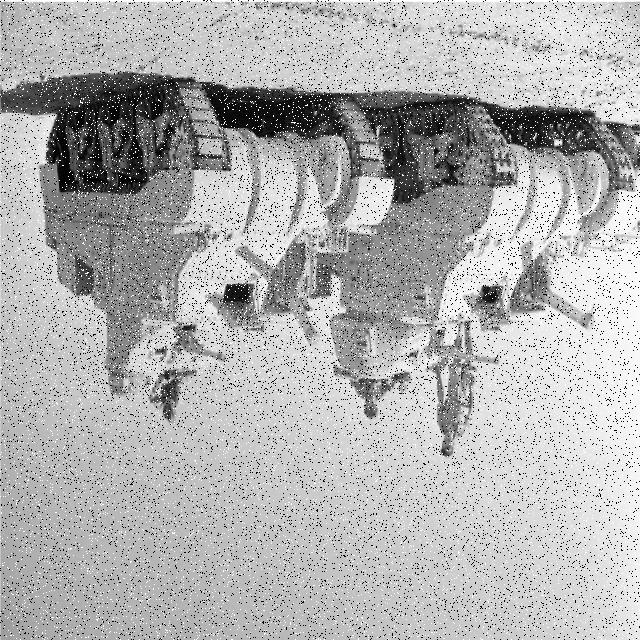MIL_MBT: (70, 78, 347, 391), (363, 85, 574, 404)
